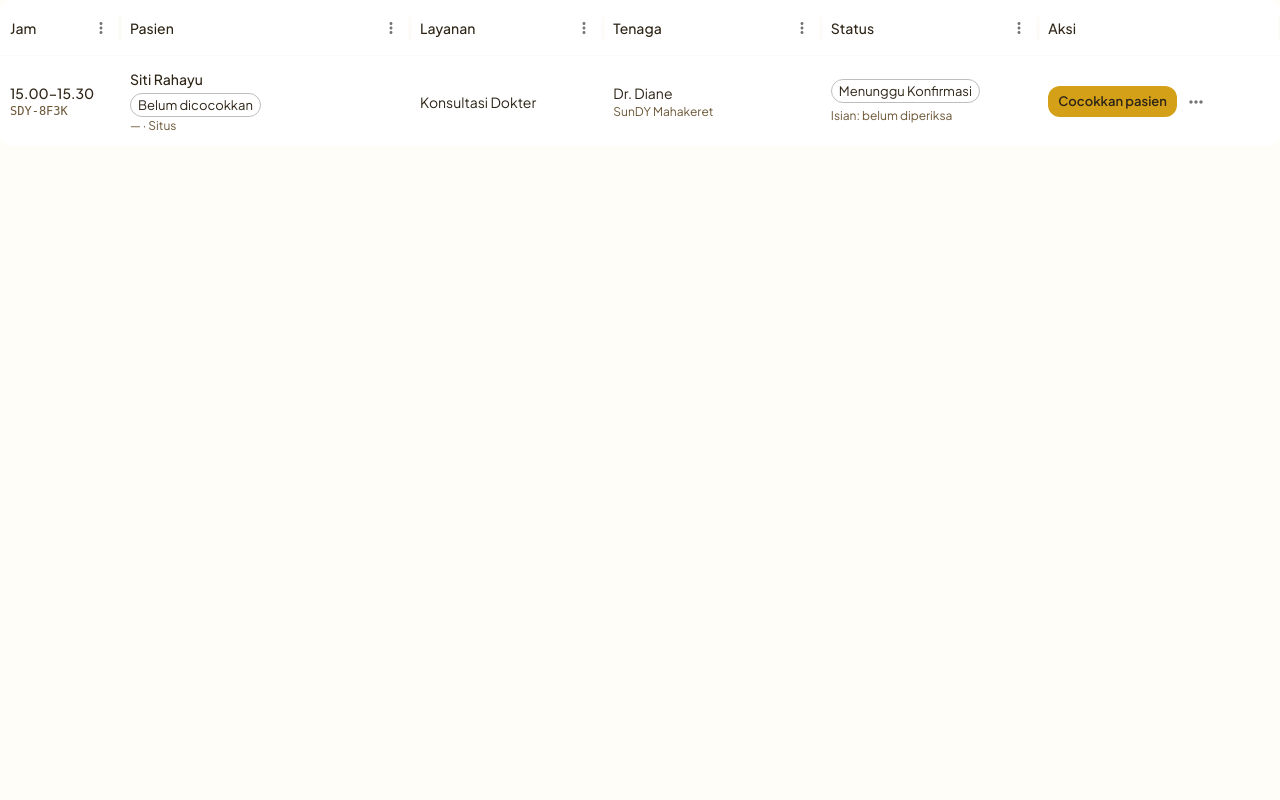
Test case: AppointmentTable pencocokan pasien › booking situs yang belum dicocokkan menawarkan Cocokkan pasien dan belum Verifikasi
Click the button "Cocokkan pasien".
click(1113, 102)  # box [1048,86,1177,117]
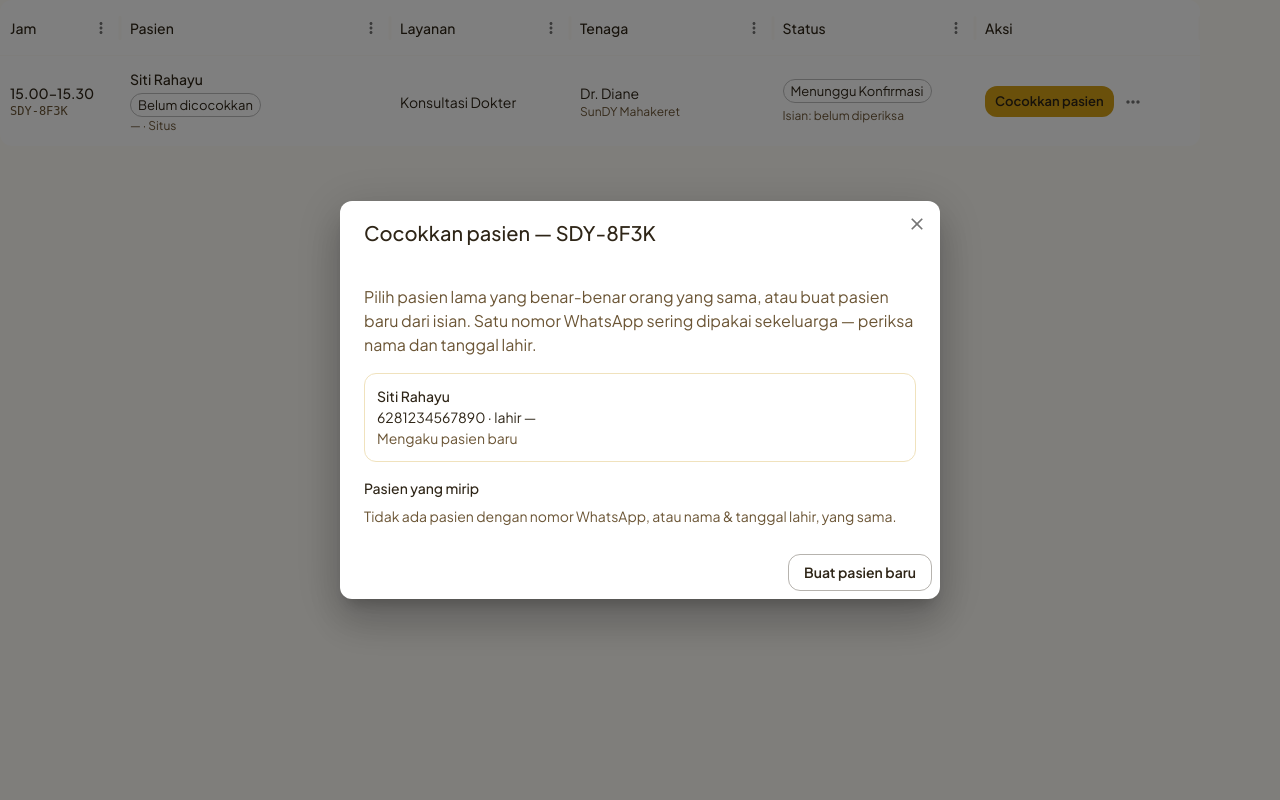
Check: the dialog "Cocokkan pasien — SDY-8F3K" is shown, box [340,201,940,599]
